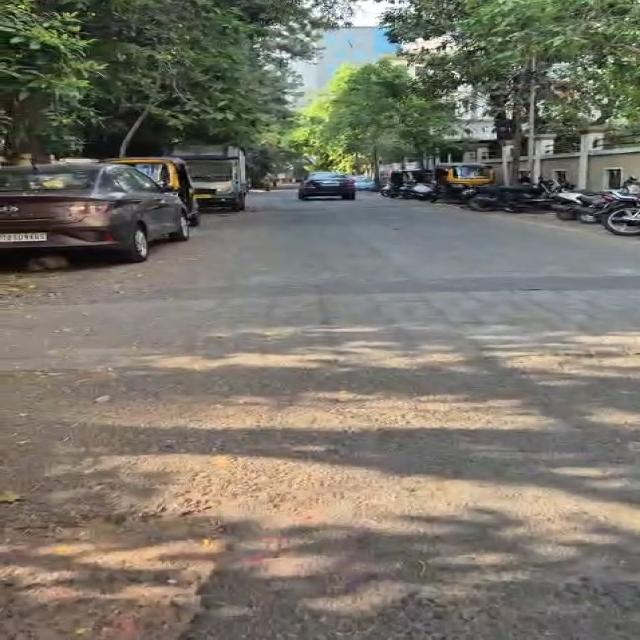obstacle: (528, 55, 538, 182)
vehicle: (0, 164, 190, 262), (468, 179, 562, 212), (299, 172, 356, 200), (354, 176, 377, 191)
